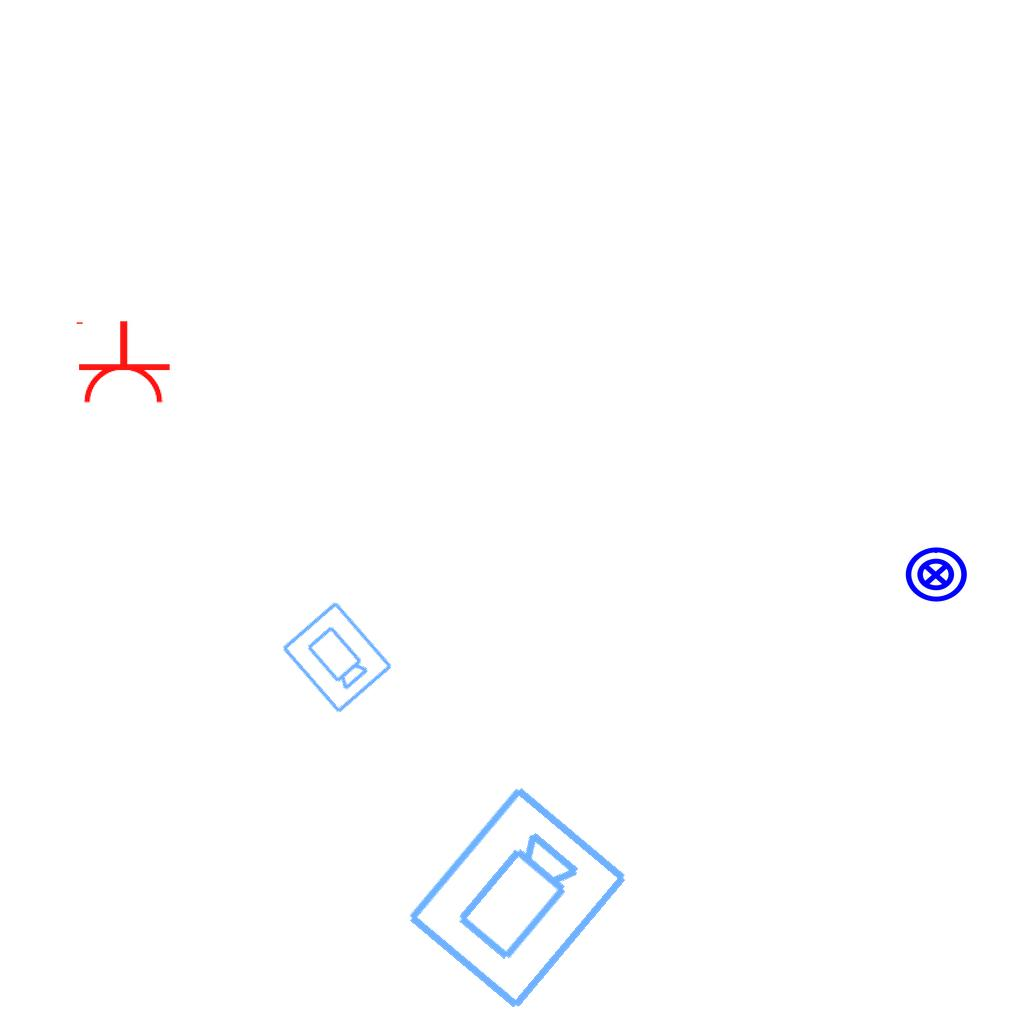KFO_Kamera_mit_Festobjektiv: (400, 779, 636, 1019), (277, 597, 396, 718)
Schukosteckdose_einfach: (72, 319, 172, 406)
Taster_beleuchtet: (903, 542, 969, 608)
